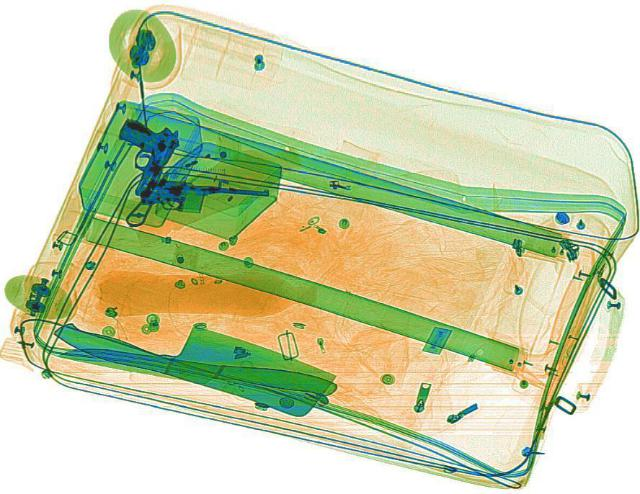Gun: (116, 166, 272, 225), (106, 114, 180, 195)
Knife: (41, 288, 343, 423), (46, 334, 346, 407)
